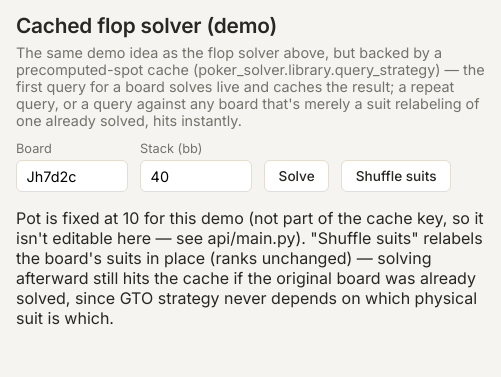
Scenario: CachedFlopSolver › shows an error message and no result on a rejected request
Click the button "Solve" at (297, 176), box [264,160,329,192]
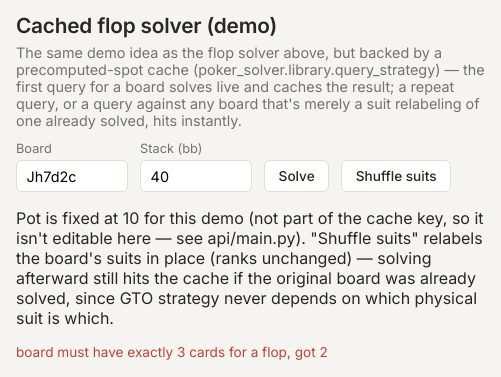
Now the message reads "board must have exactly 3 cards for a flop, got 2", box [16,344,328,360]
